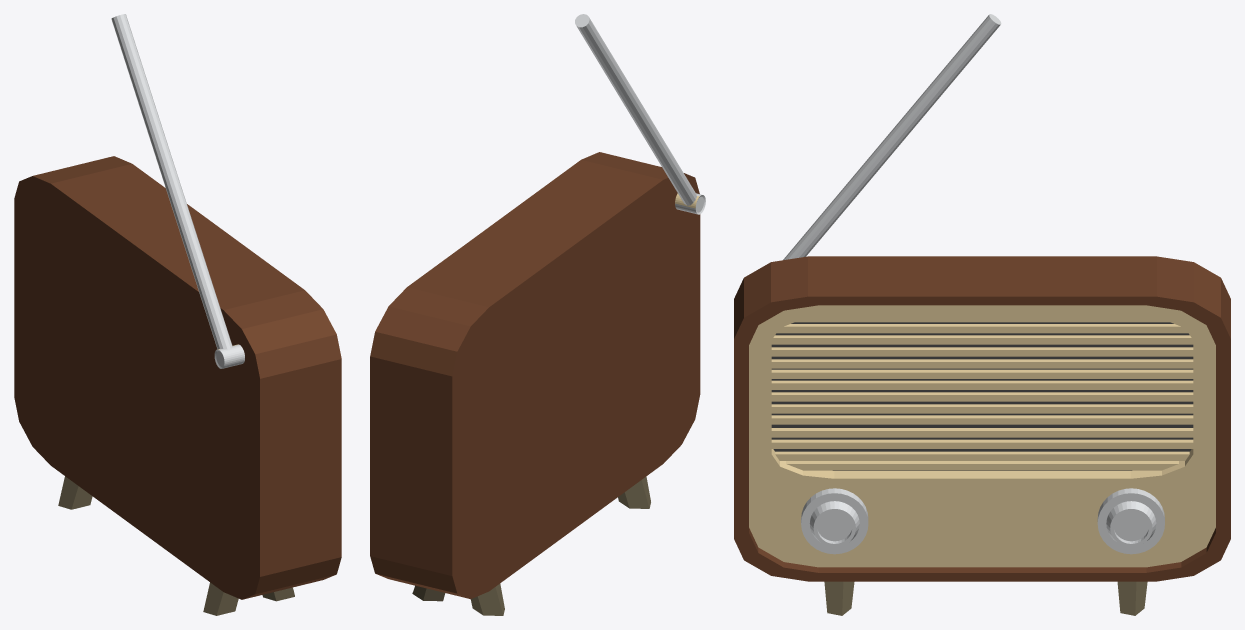
File: Radio.fbx
3 views of the same model, side by side, from view 1: azimuth 30°, elevation 25°; view 2: azimuth 150°, elevation 25°; view 3: azimuth 270°, elevation 25° (orthographic).
Parts seen in each view (by area): view 1: Cube; view 2: Cube; view 3: Cube.
Part boxes in pixels (left/top/right/bottom): Cube: left=14, top=14, right=341, bottom=615; Cube: left=370, top=14, right=705, bottom=615; Cube: left=734, top=14, right=1230, bottom=615.
Bounding box in the file's own units: 102 × 479 × 391.
